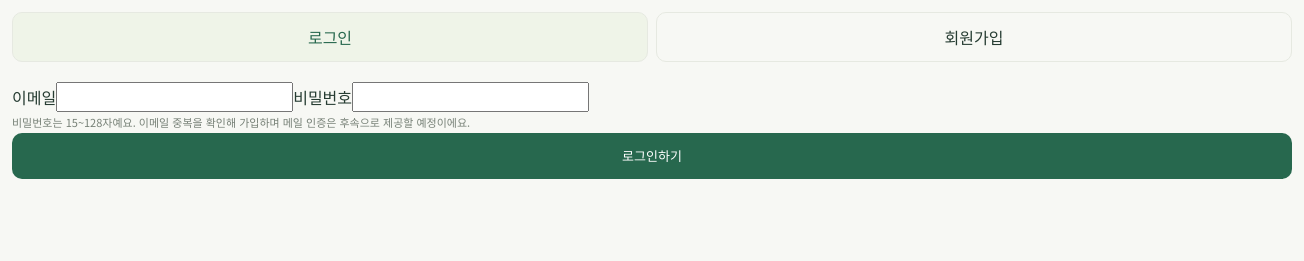
Test: 실제 계정 폼 › 중복 가입 오류를 안내하고 요청 ID는 표시하지 않는다
This screenshot has width=1304, height=261.
Expected: the field labelled "이메일" is enabled, [56, 82, 293, 112]
Click the button "회원가입" at (974,37), box [656, 12, 1292, 62]
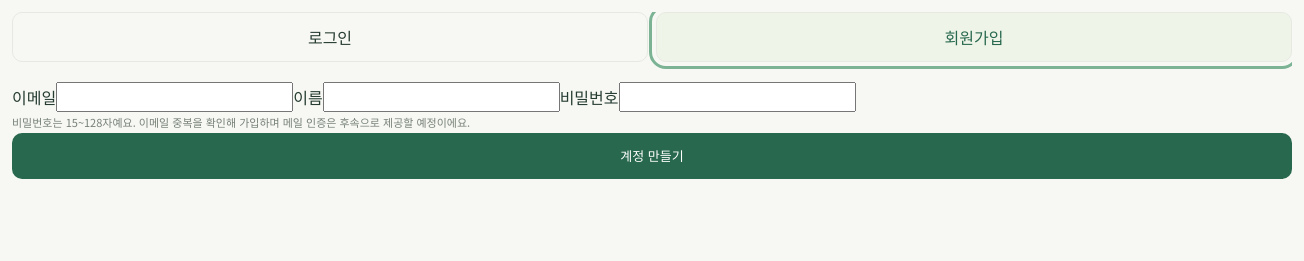
Type "member@example.invalid" into the field labelled "이메일" at (175,97), box [56, 82, 293, 112]
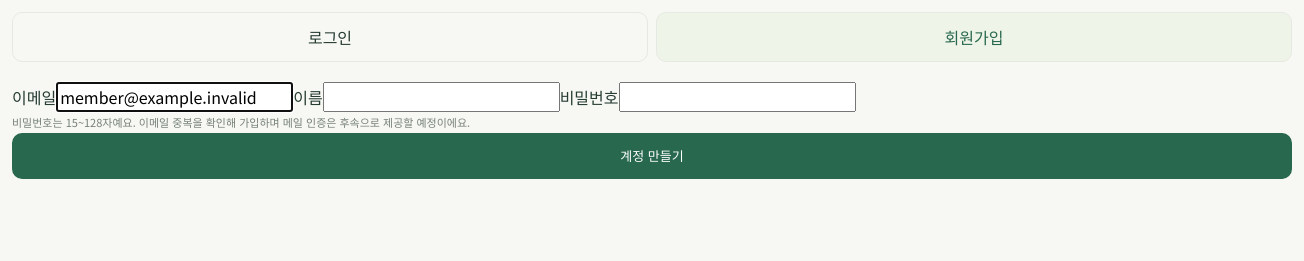
Type "테스트" into the field labelled "이름" at (441,97), box [323, 82, 560, 112]
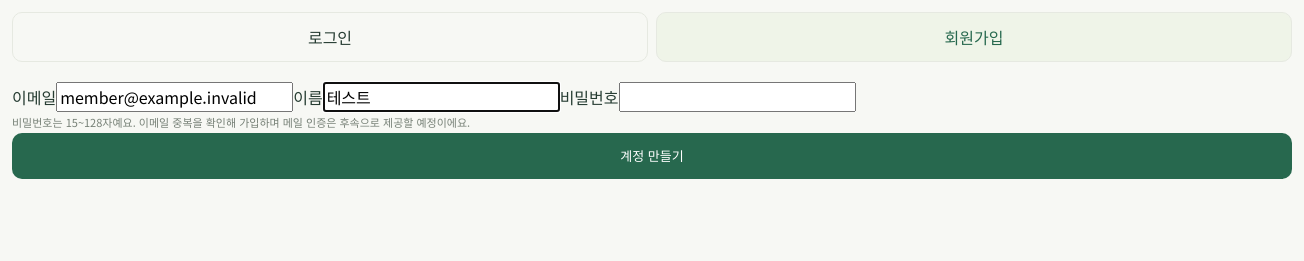
Type "A test passphrase with spaces" into the password field labelled "비밀번호" at (737,97), box [618, 82, 856, 112]
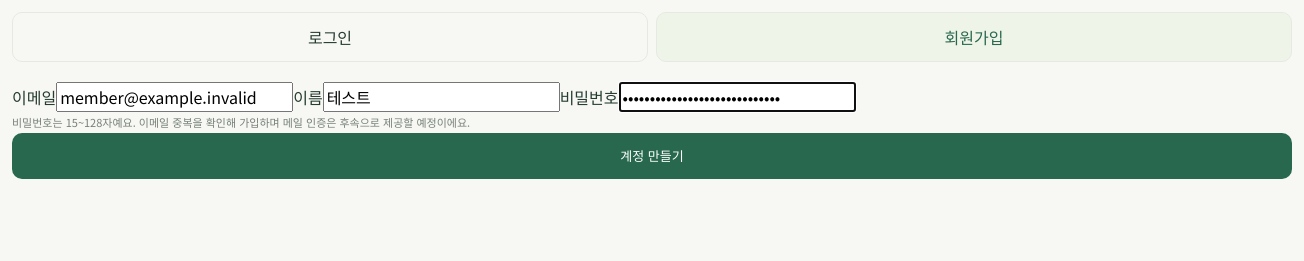
Click the button "계정 만들기" at (652,156), box [12, 133, 1292, 179]
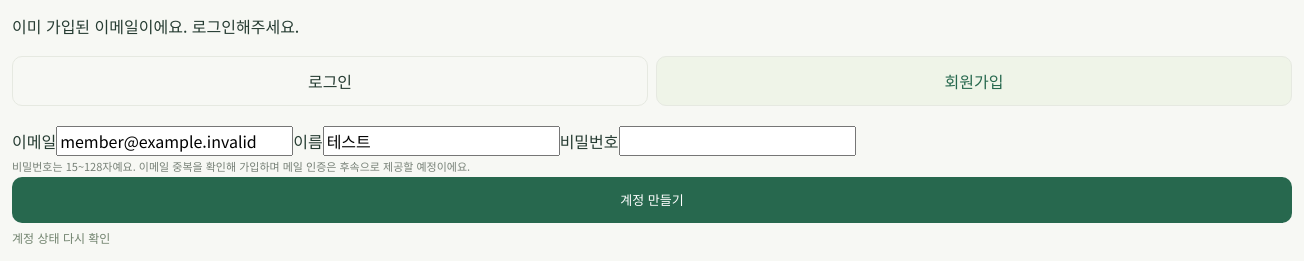
Result: the text "이미 가입된 이메일이에요. 로그인해주세요." is shown at [12, 14, 299, 38]
